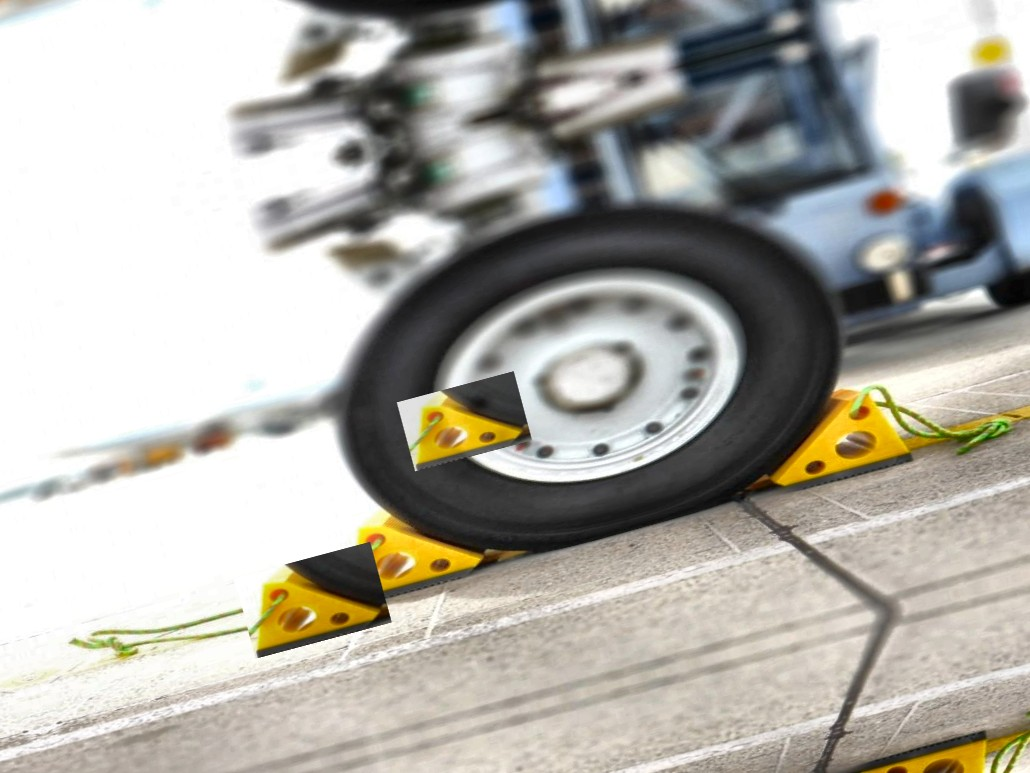chock: (741, 375, 917, 499), (328, 483, 496, 608), (234, 542, 392, 659), (397, 371, 532, 471), (836, 732, 1012, 773)
wheel: (304, 158, 869, 595), (985, 265, 1030, 312)
